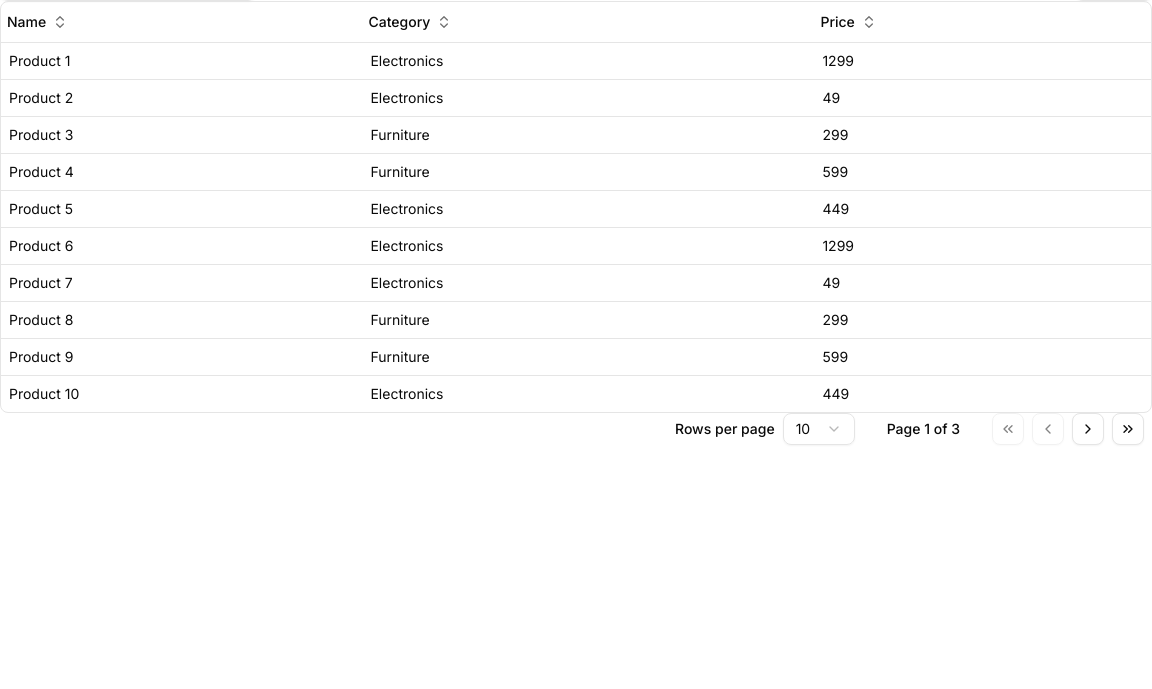
it: DataTable pagination › changes the page size
The width and height of the screenshot is (1152, 689).
Step 1. Click the dropdown named "Rows per page" → (819, 428), box [783,412,855,444]
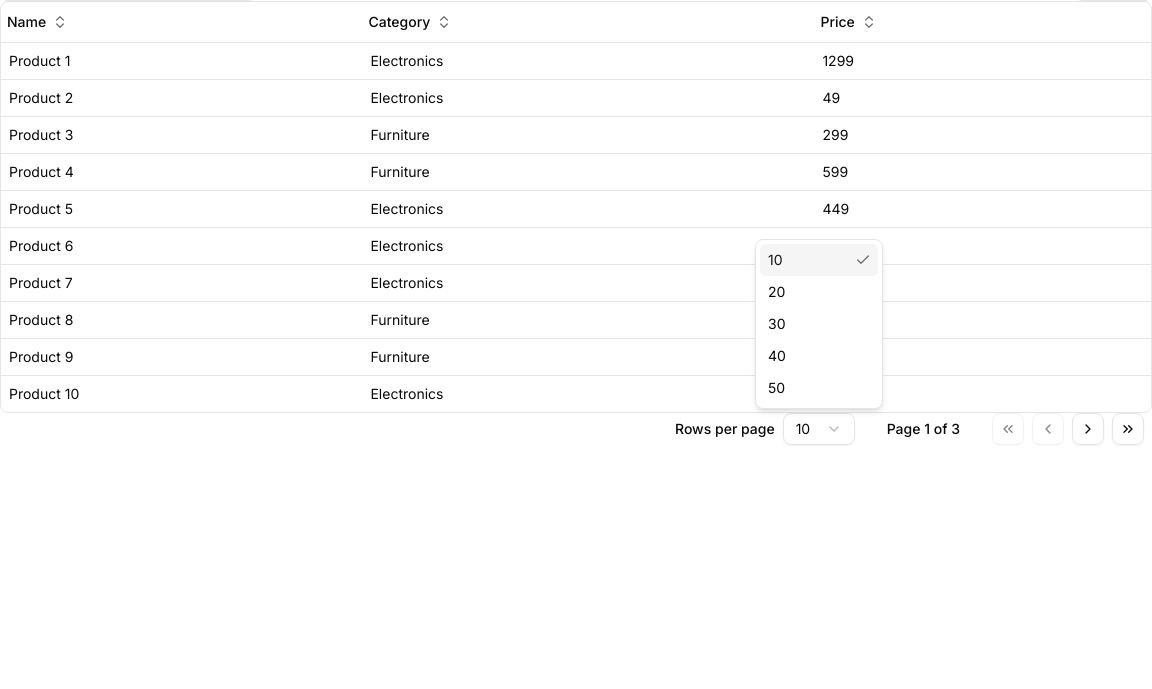
Step 2. Click the option "20" → (777, 292), box [768,283,785,300]
(page scrolled)
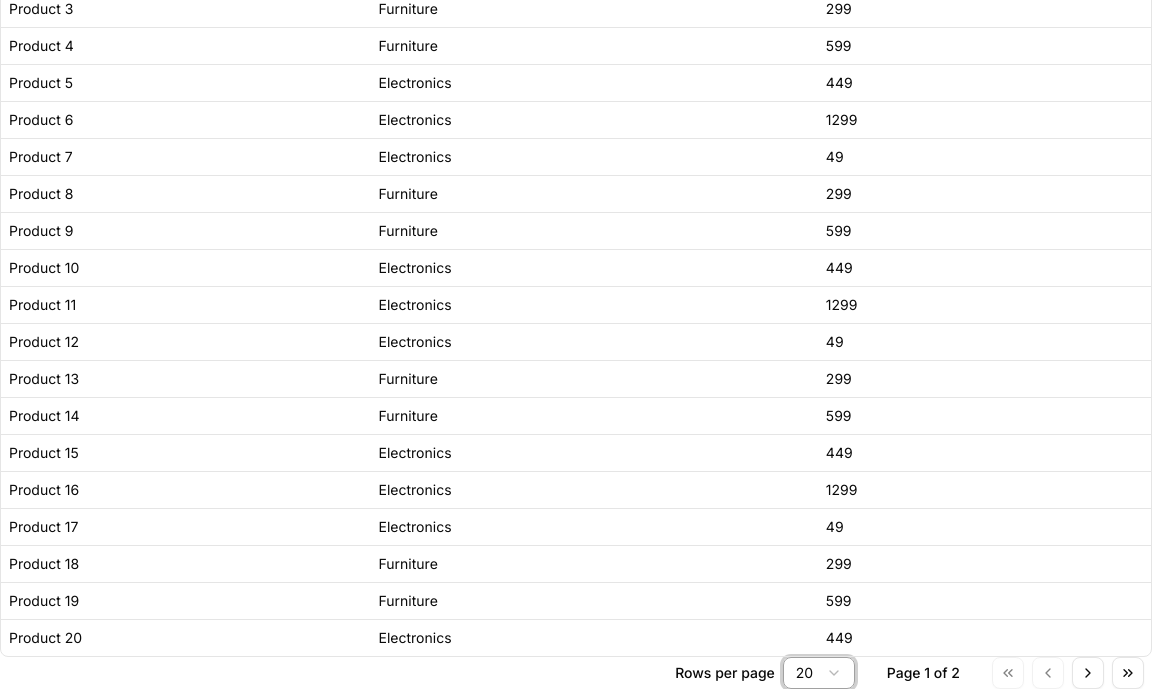
Check: the text "Page 1 of 2" is shown, box [887,662,960,682]
